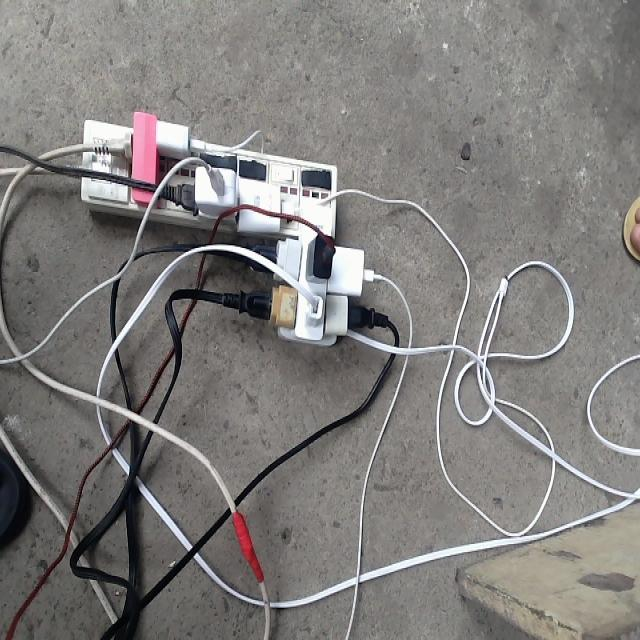-: (74, 105, 372, 348)
